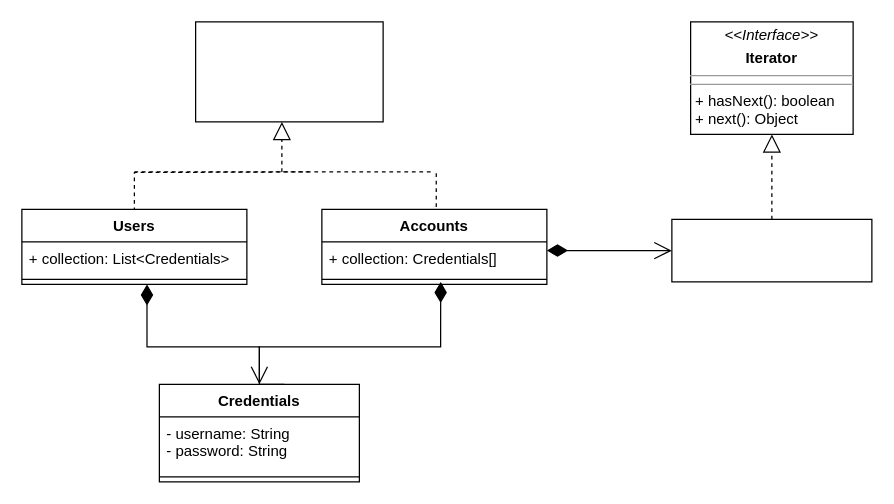
Image size: 894x504. Some labels were removed from this diagram. Each missing label, with the centre of its shape:
"<<Interface>> AuthData + createIterator(): Iterator" belongs at (288,71).
"AccountsIterator" belongs at (771,250).
